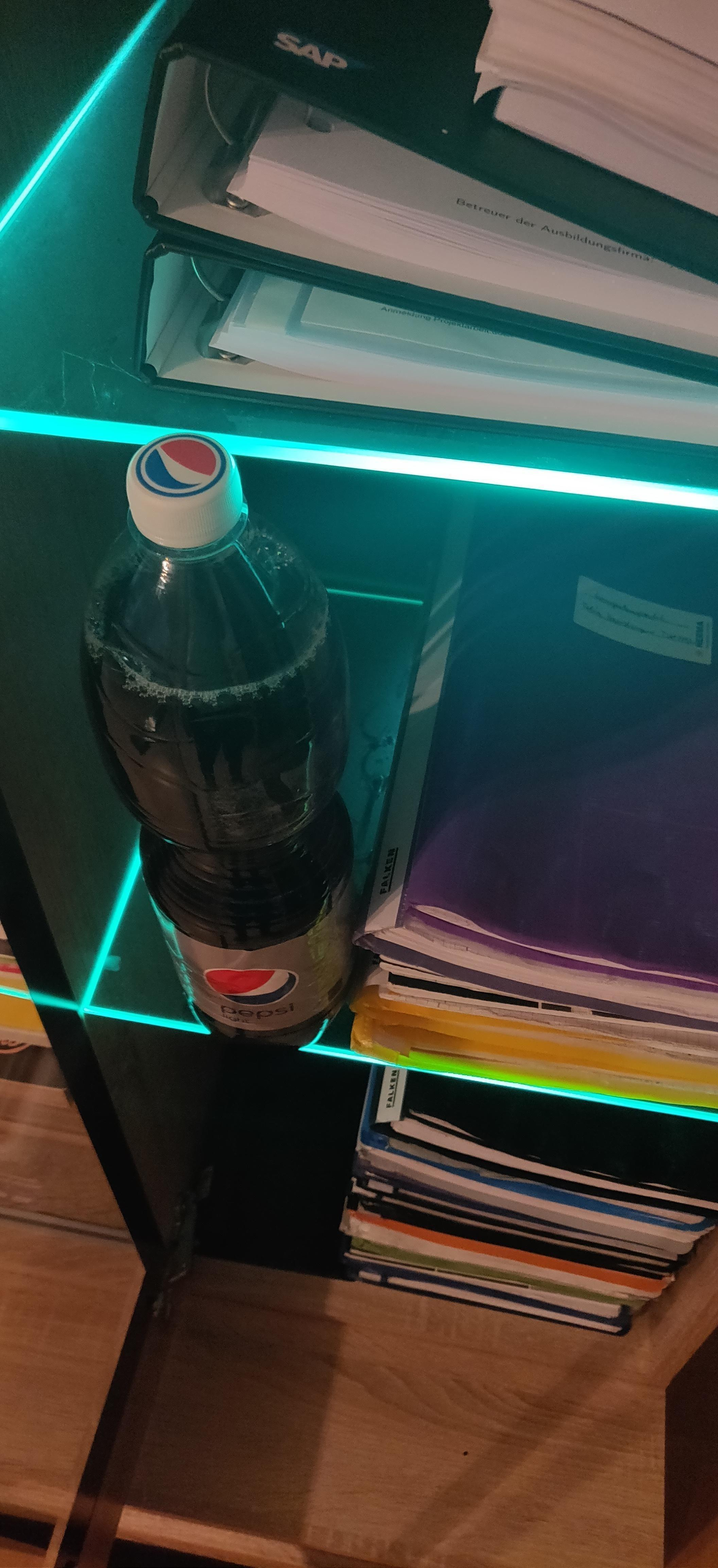bottle-plastic: (91, 429, 370, 1044)
